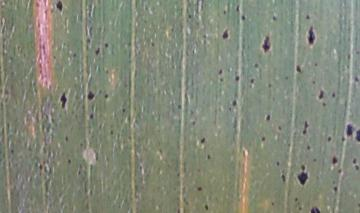tarspot: (296, 163, 308, 187), (305, 24, 317, 47), (261, 35, 272, 53), (344, 122, 355, 137), (59, 91, 68, 109), (302, 121, 310, 136), (86, 90, 95, 102), (221, 28, 229, 41), (54, 1, 63, 12), (354, 128, 360, 144), (309, 205, 321, 213), (317, 89, 325, 100), (294, 63, 302, 74), (279, 172, 286, 184), (101, 92, 110, 101), (195, 184, 204, 193), (230, 98, 238, 108), (202, 202, 210, 212), (94, 46, 101, 57), (271, 13, 278, 24), (199, 136, 207, 145), (233, 74, 241, 83), (108, 127, 116, 136), (88, 112, 95, 122), (331, 155, 338, 165), (239, 13, 246, 23), (205, 152, 212, 161), (264, 113, 271, 122), (190, 119, 197, 128), (63, 134, 70, 143), (296, 204, 303, 213), (47, 165, 52, 177), (187, 12, 193, 22), (304, 13, 311, 21), (340, 135, 347, 143), (335, 167, 342, 175), (259, 135, 266, 143), (249, 77, 256, 85), (265, 82, 273, 89), (283, 74, 290, 82), (120, 106, 127, 114), (268, 199, 275, 207), (234, 3, 240, 12), (326, 134, 332, 143), (305, 142, 311, 151), (217, 67, 223, 76), (42, 164, 48, 173), (86, 36, 91, 46), (353, 164, 360, 171), (276, 124, 283, 131), (330, 91, 337, 98), (78, 141, 85, 148), (292, 195, 299, 202), (351, 157, 357, 165), (332, 185, 338, 193), (274, 159, 280, 167), (353, 75, 359, 83), (313, 61, 319, 69), (219, 76, 225, 84), (252, 62, 260, 68), (346, 52, 352, 60), (176, 102, 182, 110), (37, 162, 43, 170), (149, 40, 155, 48), (71, 51, 77, 59), (311, 156, 317, 163), (321, 101, 327, 108), (66, 158, 72, 165), (9, 147, 15, 154), (104, 68, 110, 75), (103, 42, 109, 48), (311, 79, 317, 85), (227, 106, 233, 112), (201, 32, 207, 38), (222, 9, 227, 16), (355, 49, 360, 55), (357, 201, 360, 208)
